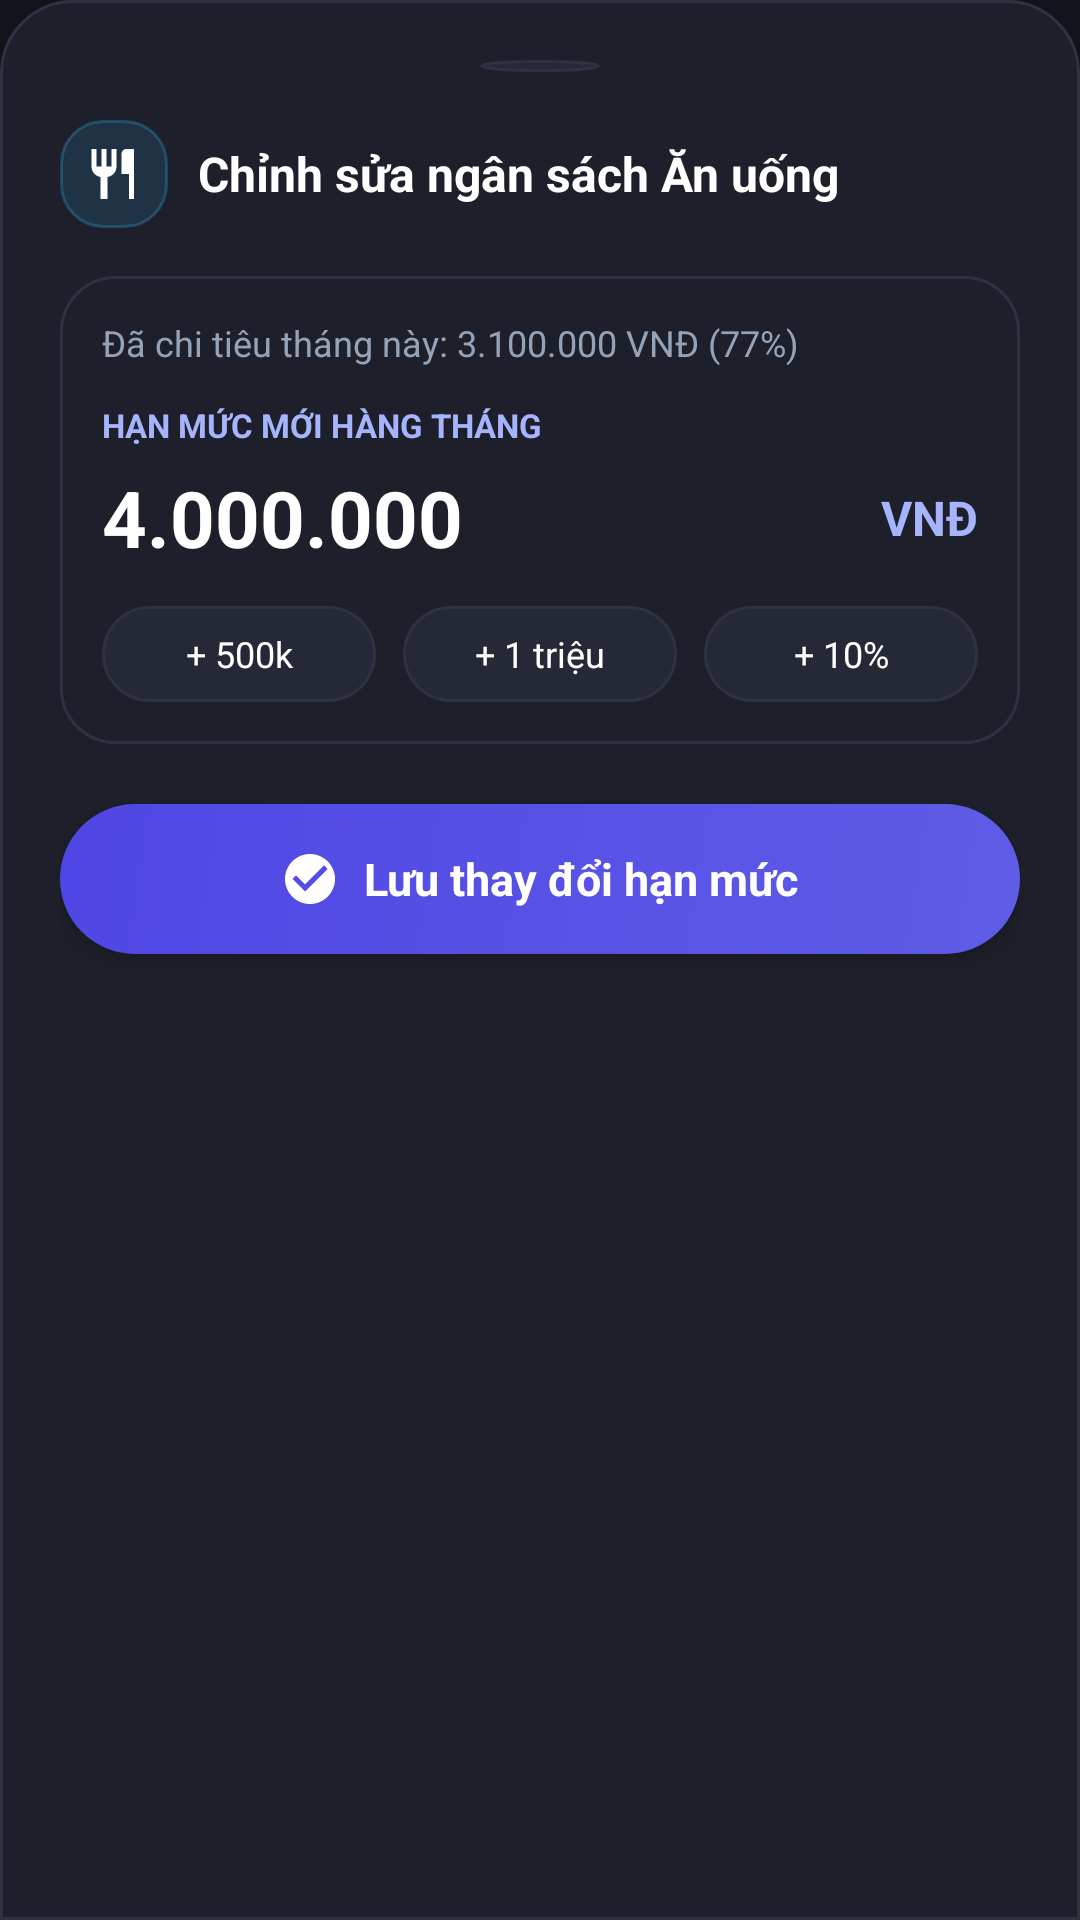

Named icons in this screenshot (1080 × 1920) and their bounding boxes, (x1, y1, x2, y2):
Category Icon: (91, 149, 134, 199)
Check: (285, 854, 335, 904)
